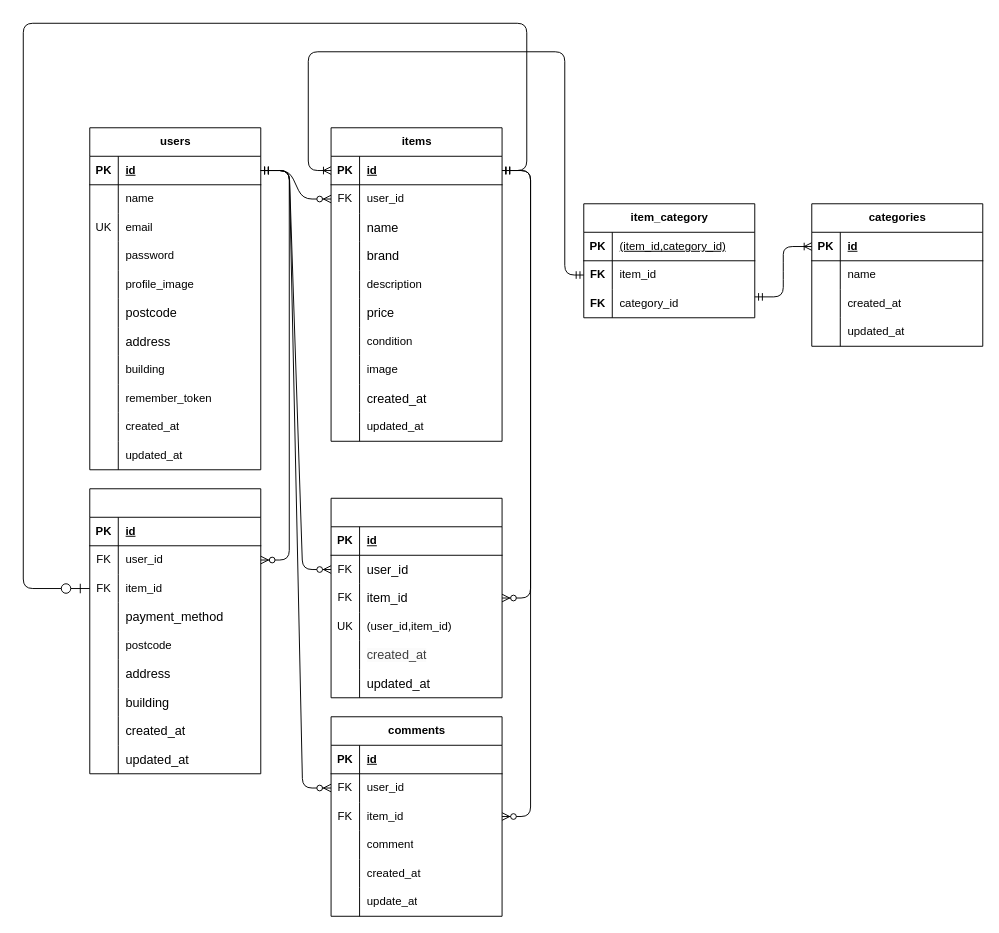
The diagram is 999 pixels wide and 933 high, and some of its shapes have lost their labels. The box of each missing label's shape, as (x1, y1, x2, y2) in pixels:
likes: (330, 497, 502, 698)
purchases: (89, 488, 261, 774)
